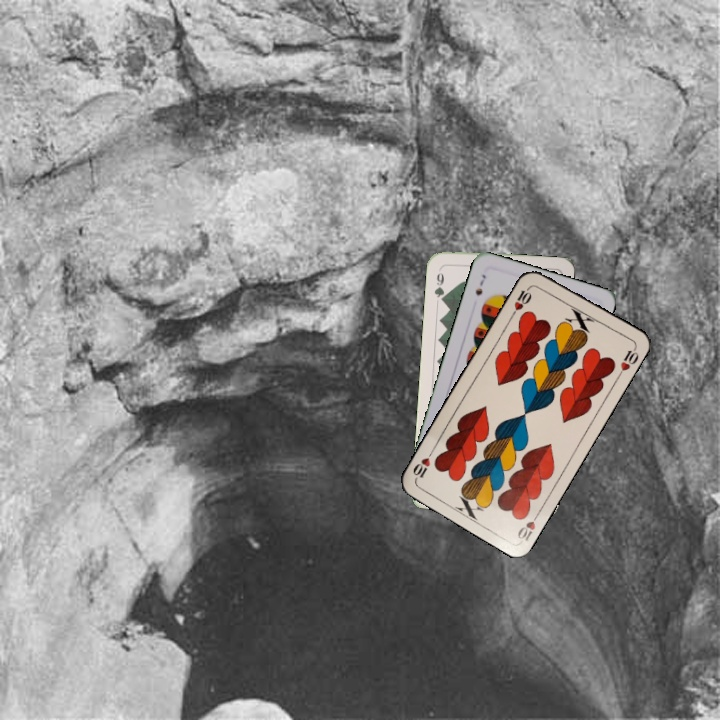G9: (430, 264, 447, 305)
H10: (513, 507, 543, 545), (507, 282, 534, 319)
S7: (471, 270, 488, 298)
